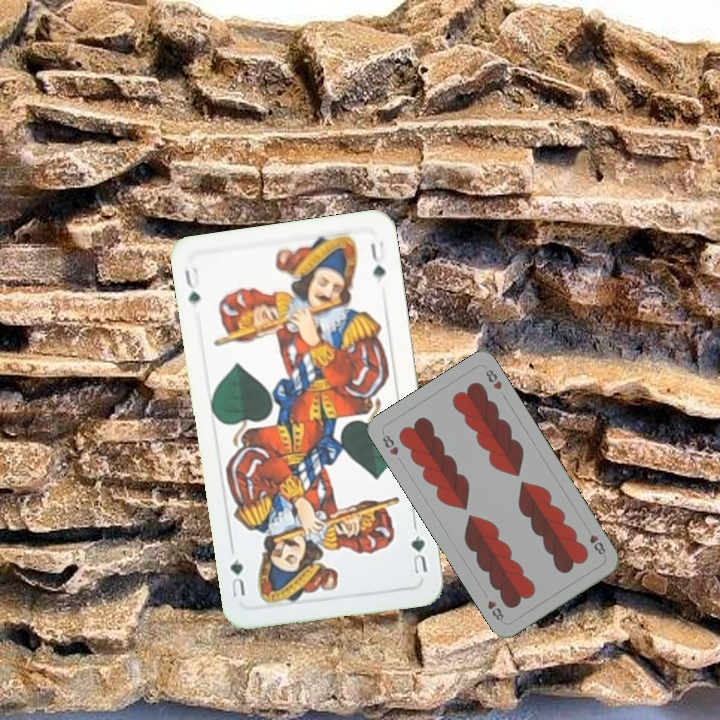GU: (406, 531, 430, 577), (180, 263, 203, 307)
H8: (378, 429, 401, 458), (585, 530, 608, 558)
